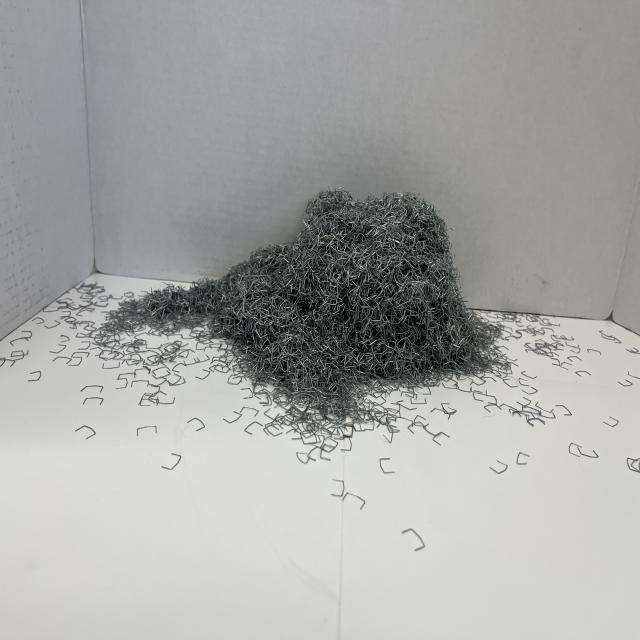staples: (99, 185, 511, 413)
